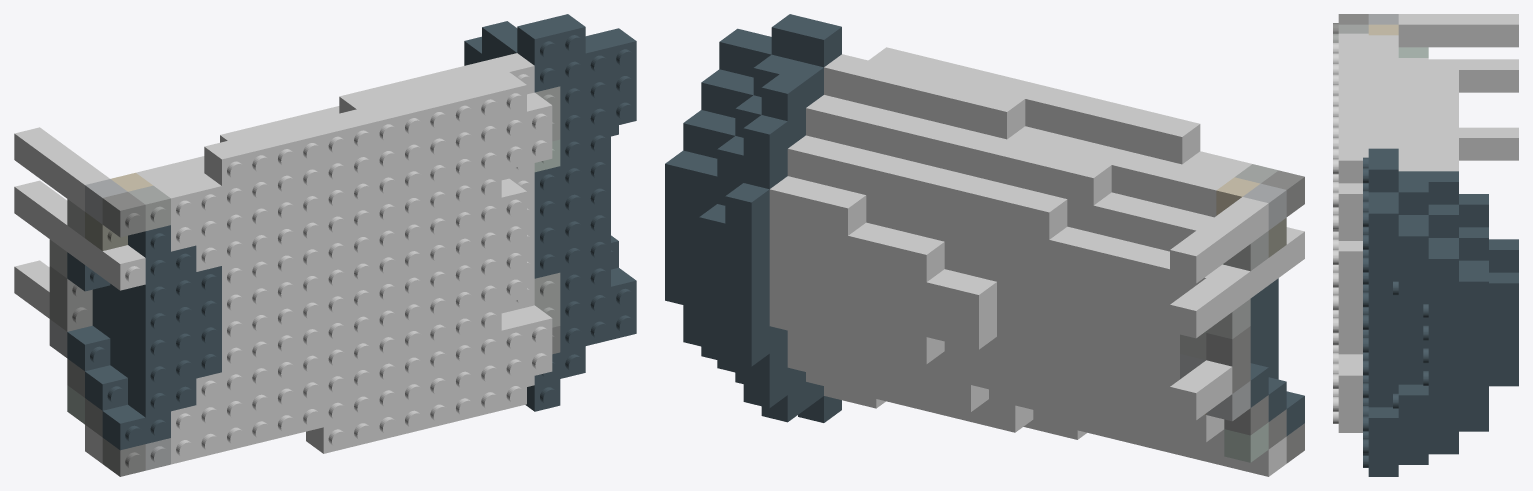
File: full.glb
3 views of the same model, side by side, from view 1: azimuth 30°, elevation 25°; view 2: azimuth 150°, elevation 25°; view 3: azimuth 270°, elevation 25° (orthographic). The views are drawn at different scales.
Visible parts, largest first — view 1: world; view 2: world; view 3: world.
Part boxes in pixels (x1=…): world: x1=14, y1=14, x2=636, y2=476; world: x1=665, y1=14, x2=1304, y2=476; world: x1=1333, y1=14, x2=1518, y2=476.
Size of the model in its own units: 168 by 112 by 59.4.
